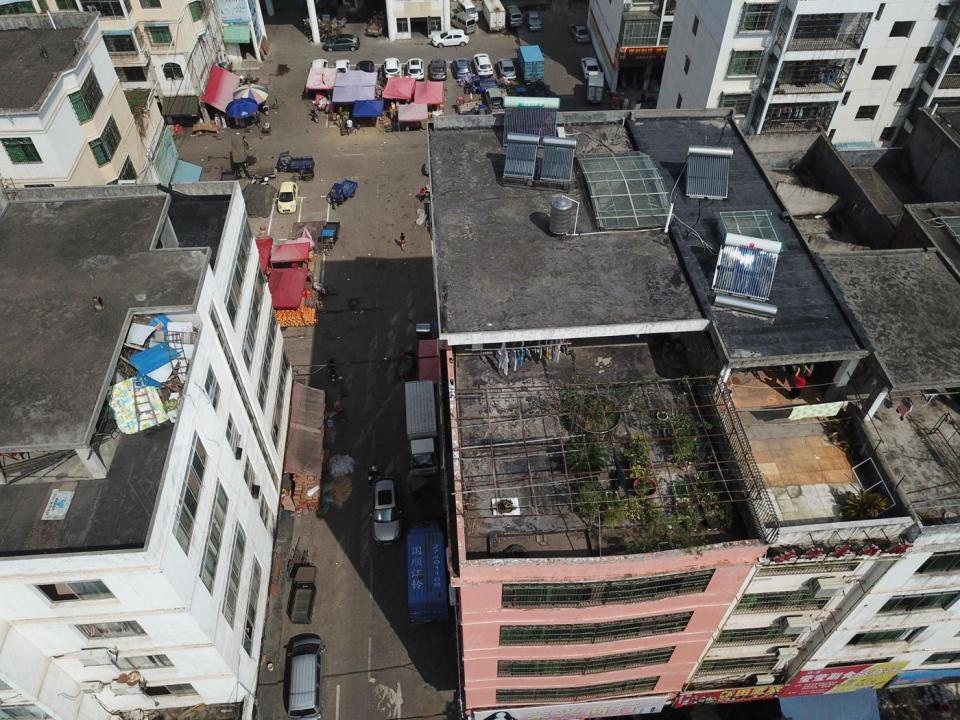car: (285, 633, 322, 720), (374, 478, 399, 543), (431, 28, 469, 47), (322, 34, 362, 52), (279, 182, 298, 214), (356, 60, 374, 88), (310, 59, 327, 85), (473, 54, 493, 76), (569, 23, 591, 43), (580, 57, 600, 79), (383, 57, 400, 82), (407, 58, 425, 81), (452, 57, 470, 78), (499, 58, 516, 80), (334, 60, 349, 83), (431, 60, 447, 81)
truck: (406, 524, 450, 626), (405, 381, 439, 475), (291, 568, 317, 624), (518, 44, 544, 81), (484, 1, 506, 31), (588, 71, 604, 104), (486, 87, 503, 114)
van: (452, 12, 476, 32), (457, 0, 477, 21), (526, 12, 542, 30), (508, 5, 521, 27)
